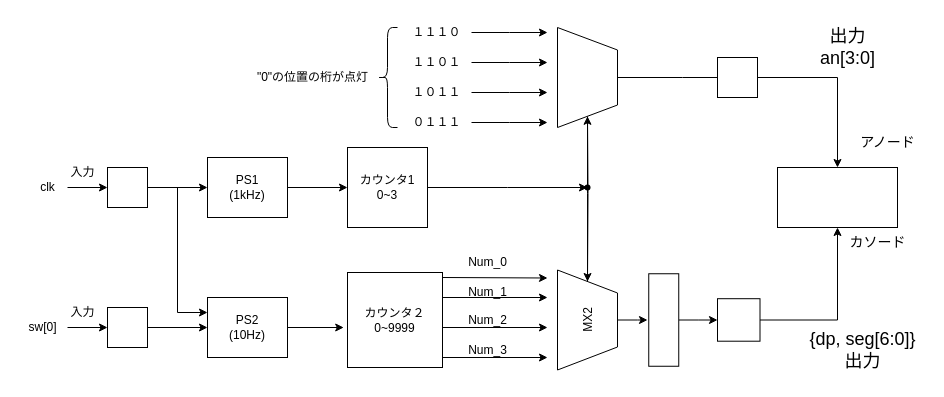
This 944x397 diagram has some shape labels left out. The shapes that lost their labels are listed below. From the top down, each one's box as (x1, y1, x2, y2) in pixels, then its label:
(556, 26, 618, 128): MX1
(776, 166, 898, 228): Timer
(648, 273, 679, 366): dec7seg
